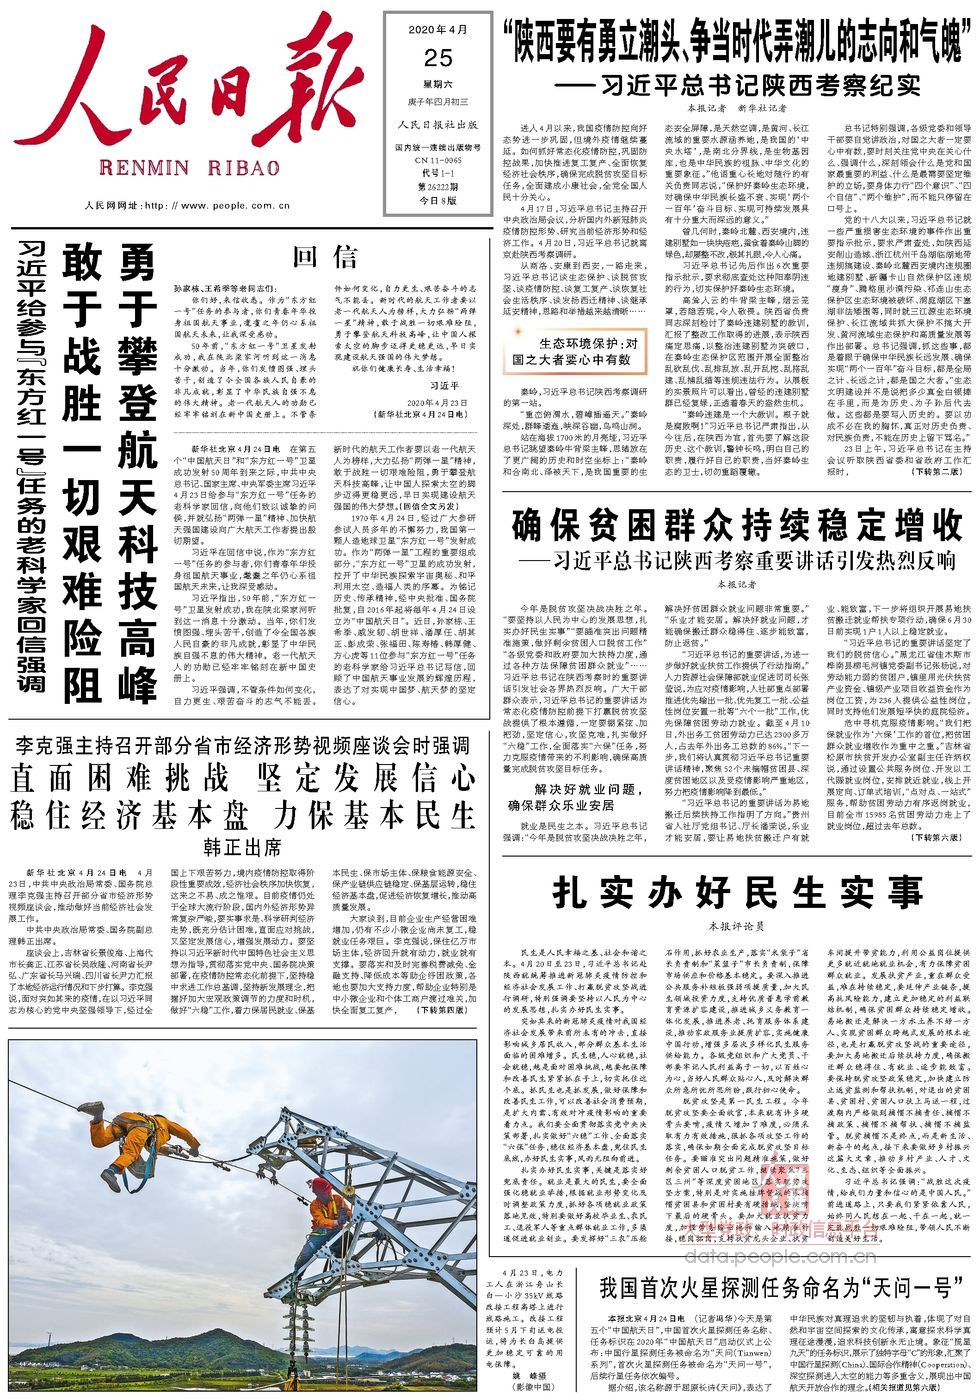pic: (3, 1034, 481, 1395)
